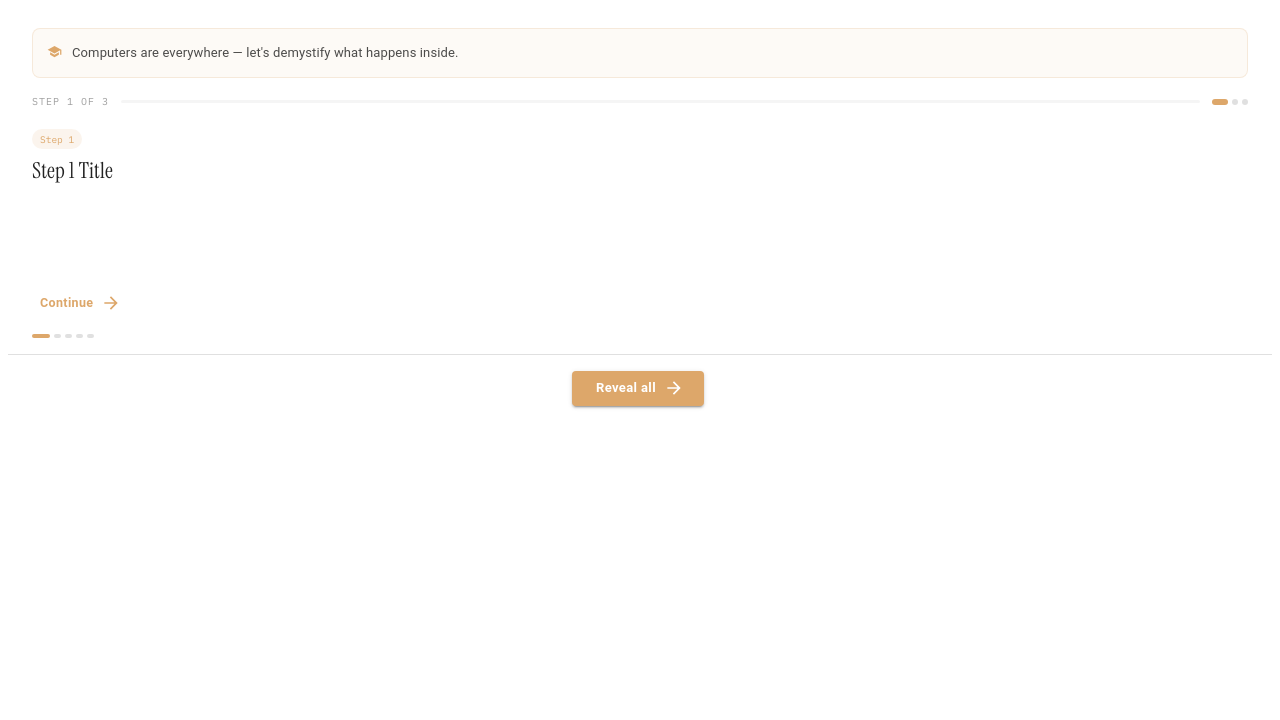
UI/UX Expert › Reading phase layout › does NOT render the intro banner on step 1+
Click the button "Reveal all".
click(638, 388)  # box [572,371,704,406]
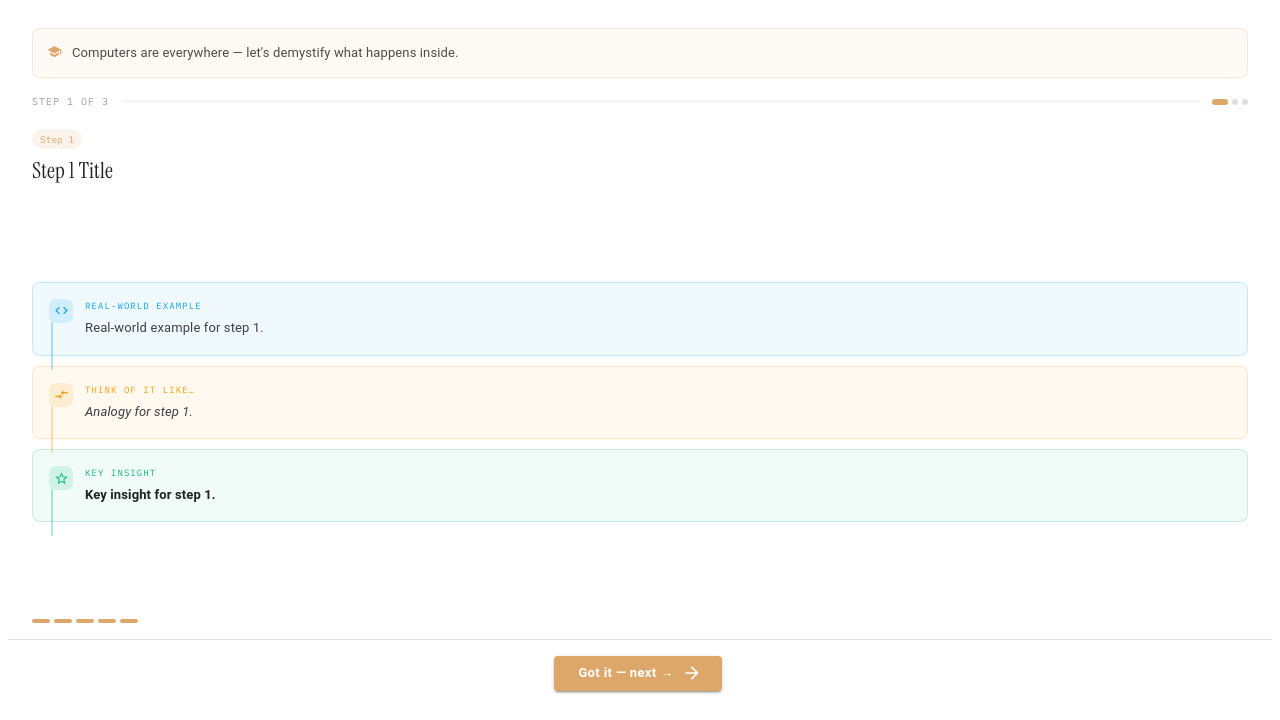
Click the button "Got it — next →".
click(638, 673)  # box [554,656,722,691]
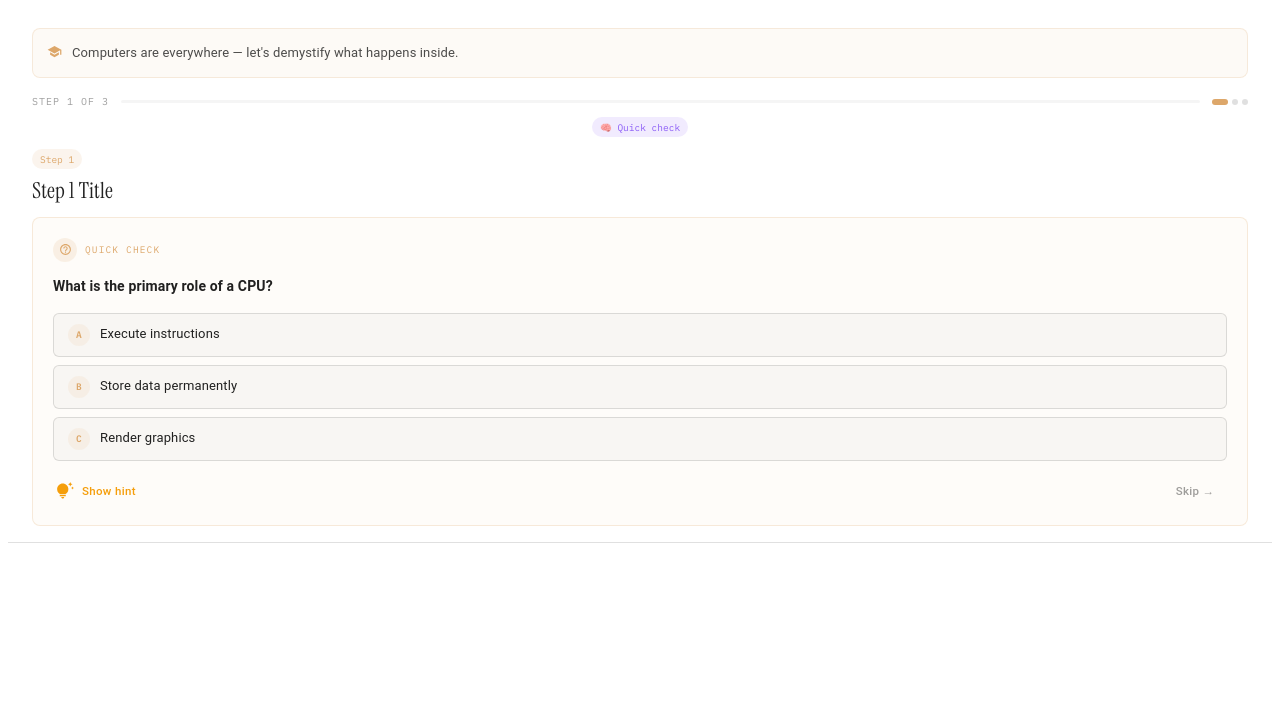
Click the button "Skip →".
click(1195, 491)  # box [1163,477,1227,505]
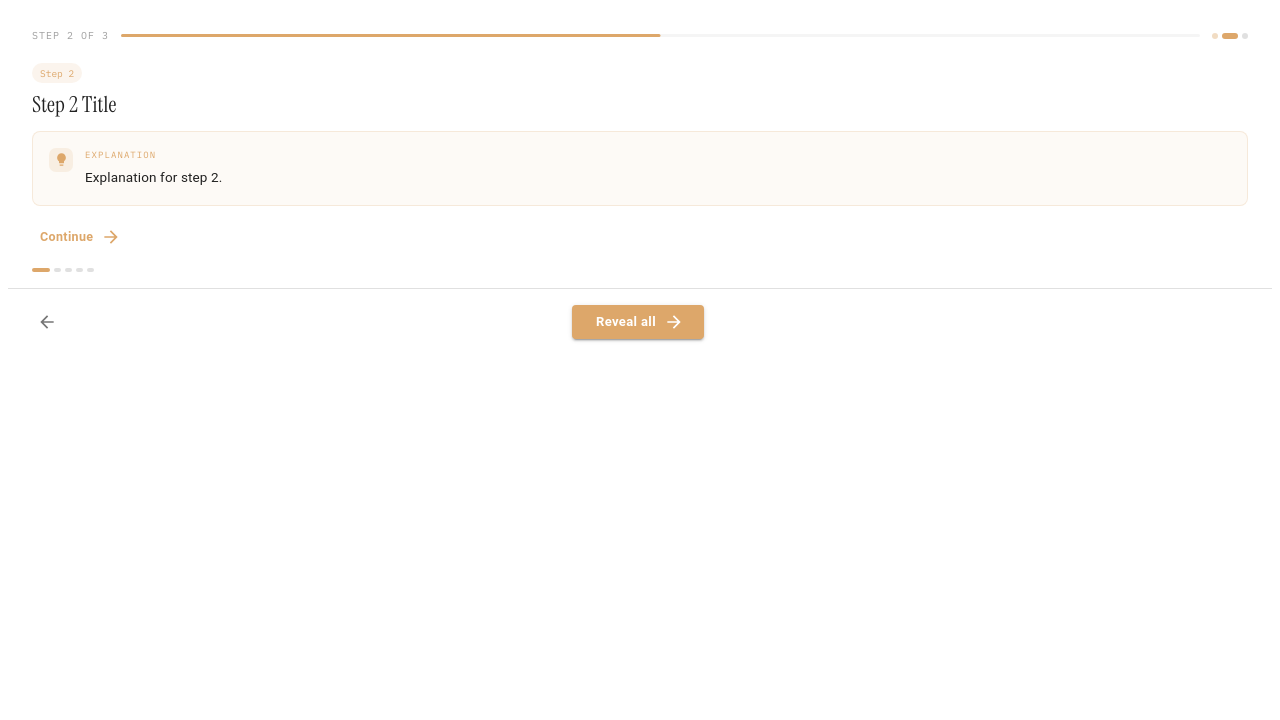
Expected: the text "Computers are everywhere" is gone
